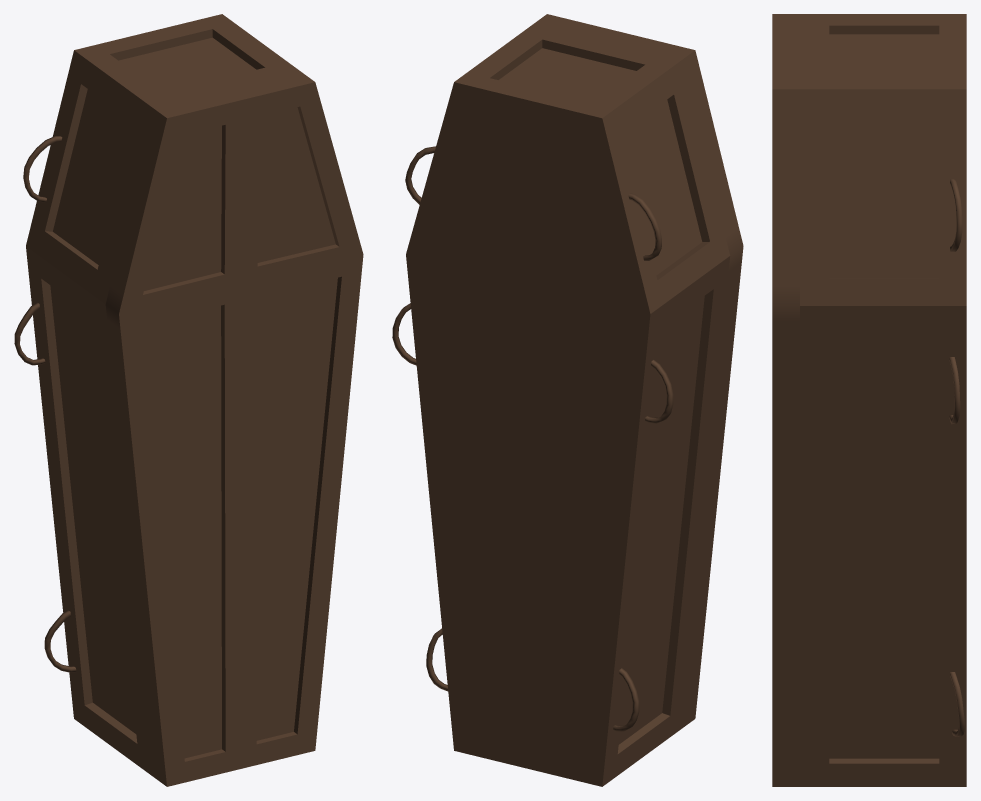
Rendered from Coffin.fbx.
The picture shows the model from 3 angles, left to right: view 1: azimuth 30°, elevation 25°; view 2: azimuth 150°, elevation 25°; view 3: azimuth 270°, elevation 25°; orthographic projection. The views are drawn at different scales.
Visible parts, largest first — view 1: low_rope; view 2: low_rope; view 3: low_rope.
Boxes of the visible parts, left/top/right/bottom form: low_rope: left=14, top=14, right=363, bottom=786; low_rope: left=392, top=14, right=743, bottom=786; low_rope: left=772, top=14, right=966, bottom=786.
Bounding box in the file's own units: 88.62 × 204 × 51.34.
